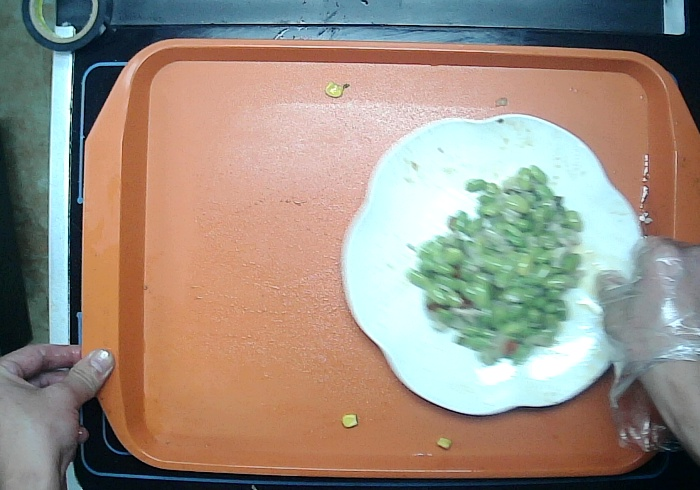HZYJPL-Bai_Se_Hua_Duo_Wan: (337, 111, 647, 417)
